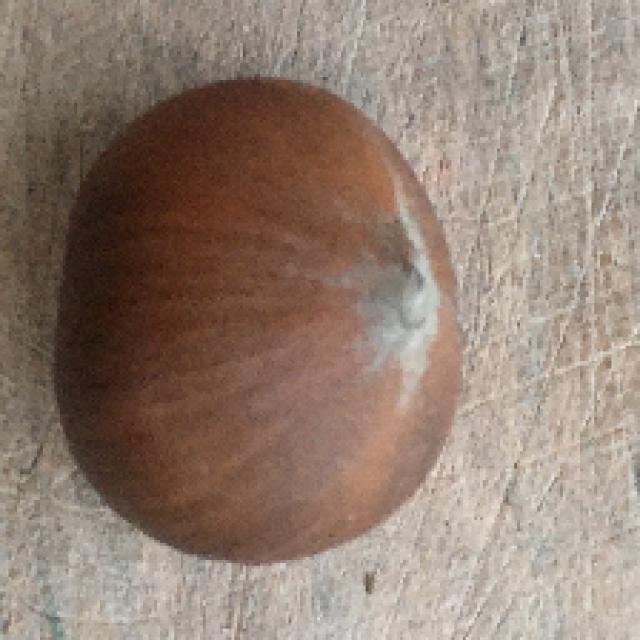qualityHazelnut: (57, 77, 465, 564)
